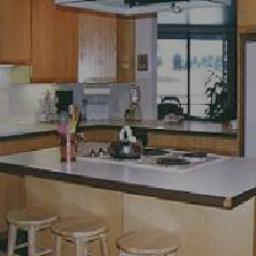Electrodomestico: (88, 142, 223, 175)
